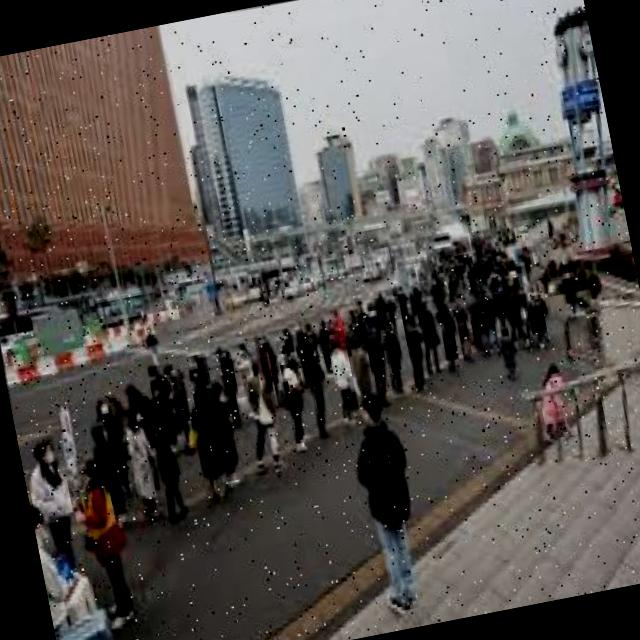Person: (339, 386, 435, 618), (64, 451, 140, 631), (19, 430, 90, 580), (114, 404, 168, 522), (236, 356, 286, 478), (142, 400, 192, 522), (273, 350, 316, 458), (205, 376, 246, 489), (298, 338, 338, 439), (323, 332, 362, 428), (410, 297, 446, 382), (398, 314, 432, 394), (432, 294, 464, 378), (376, 321, 409, 395)
